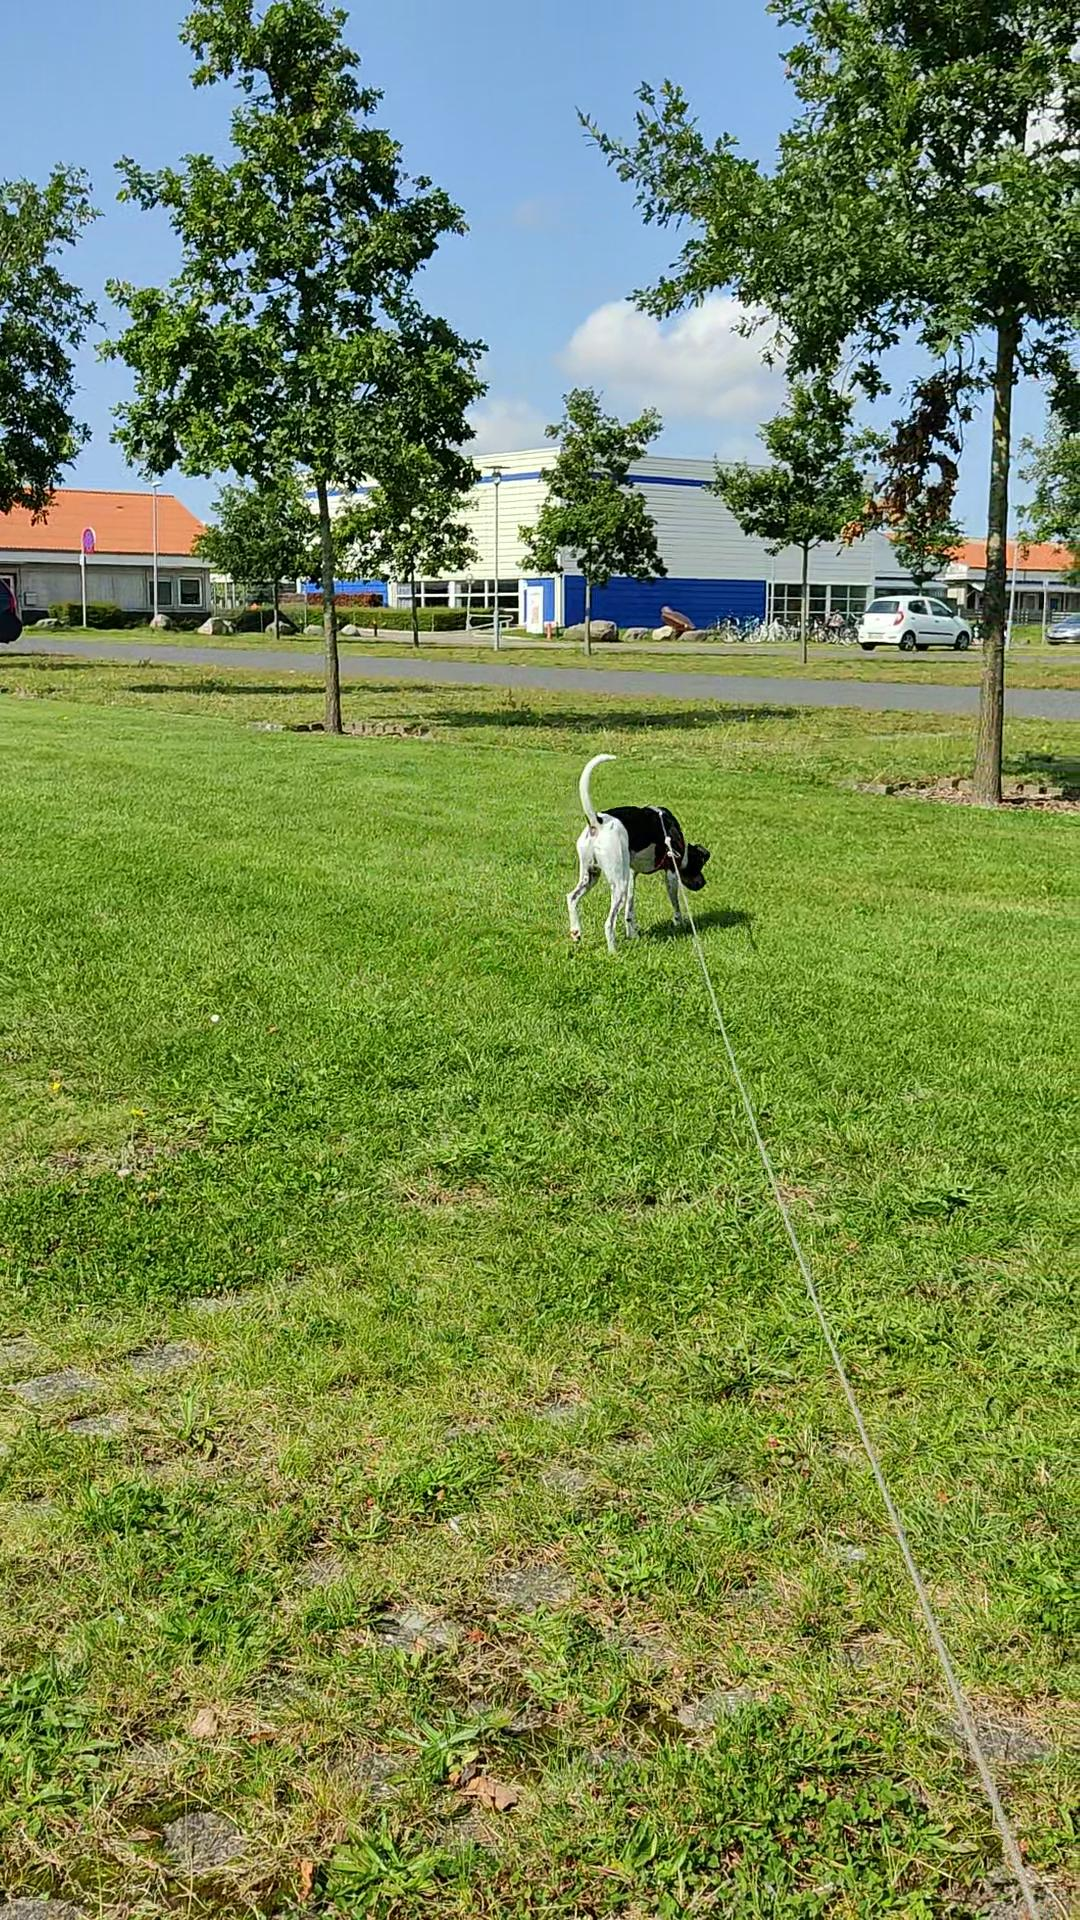Dog: (556, 745, 715, 961)
